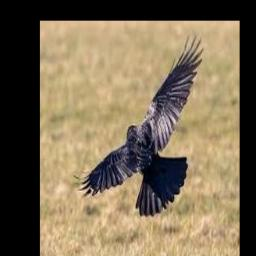Crow: (74, 29, 205, 216)
